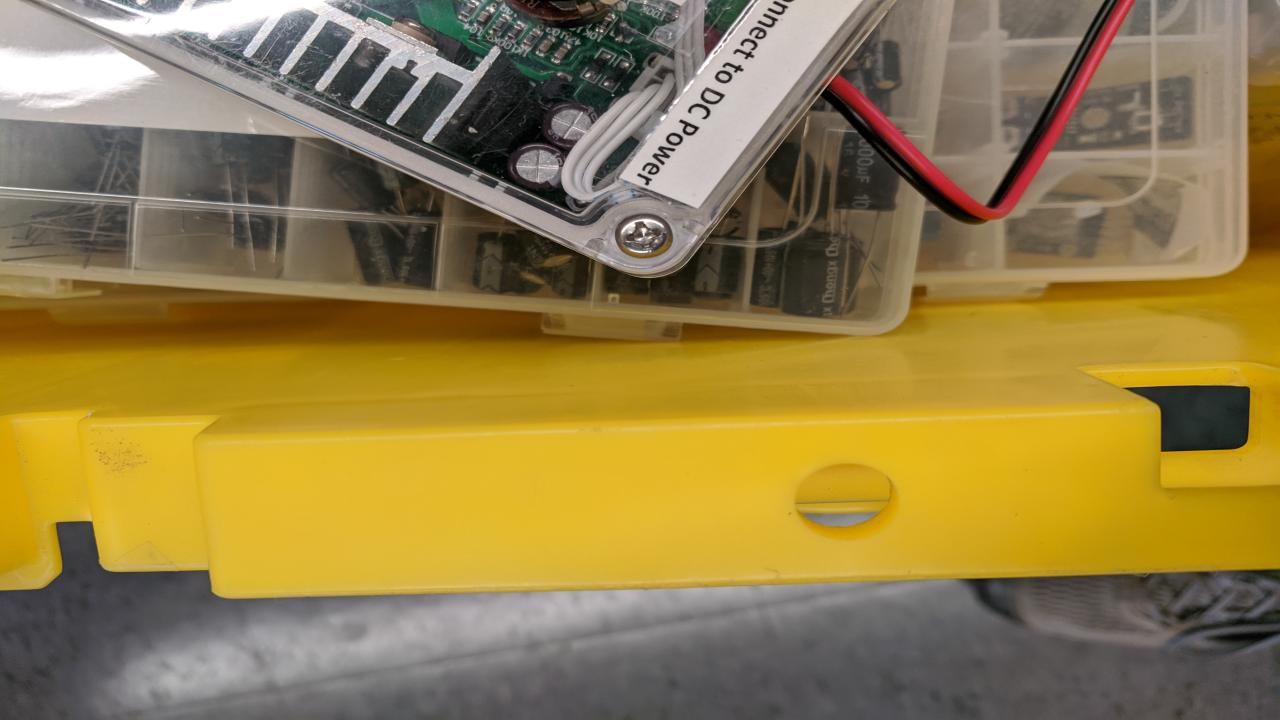CRS: (614, 214, 672, 260)
